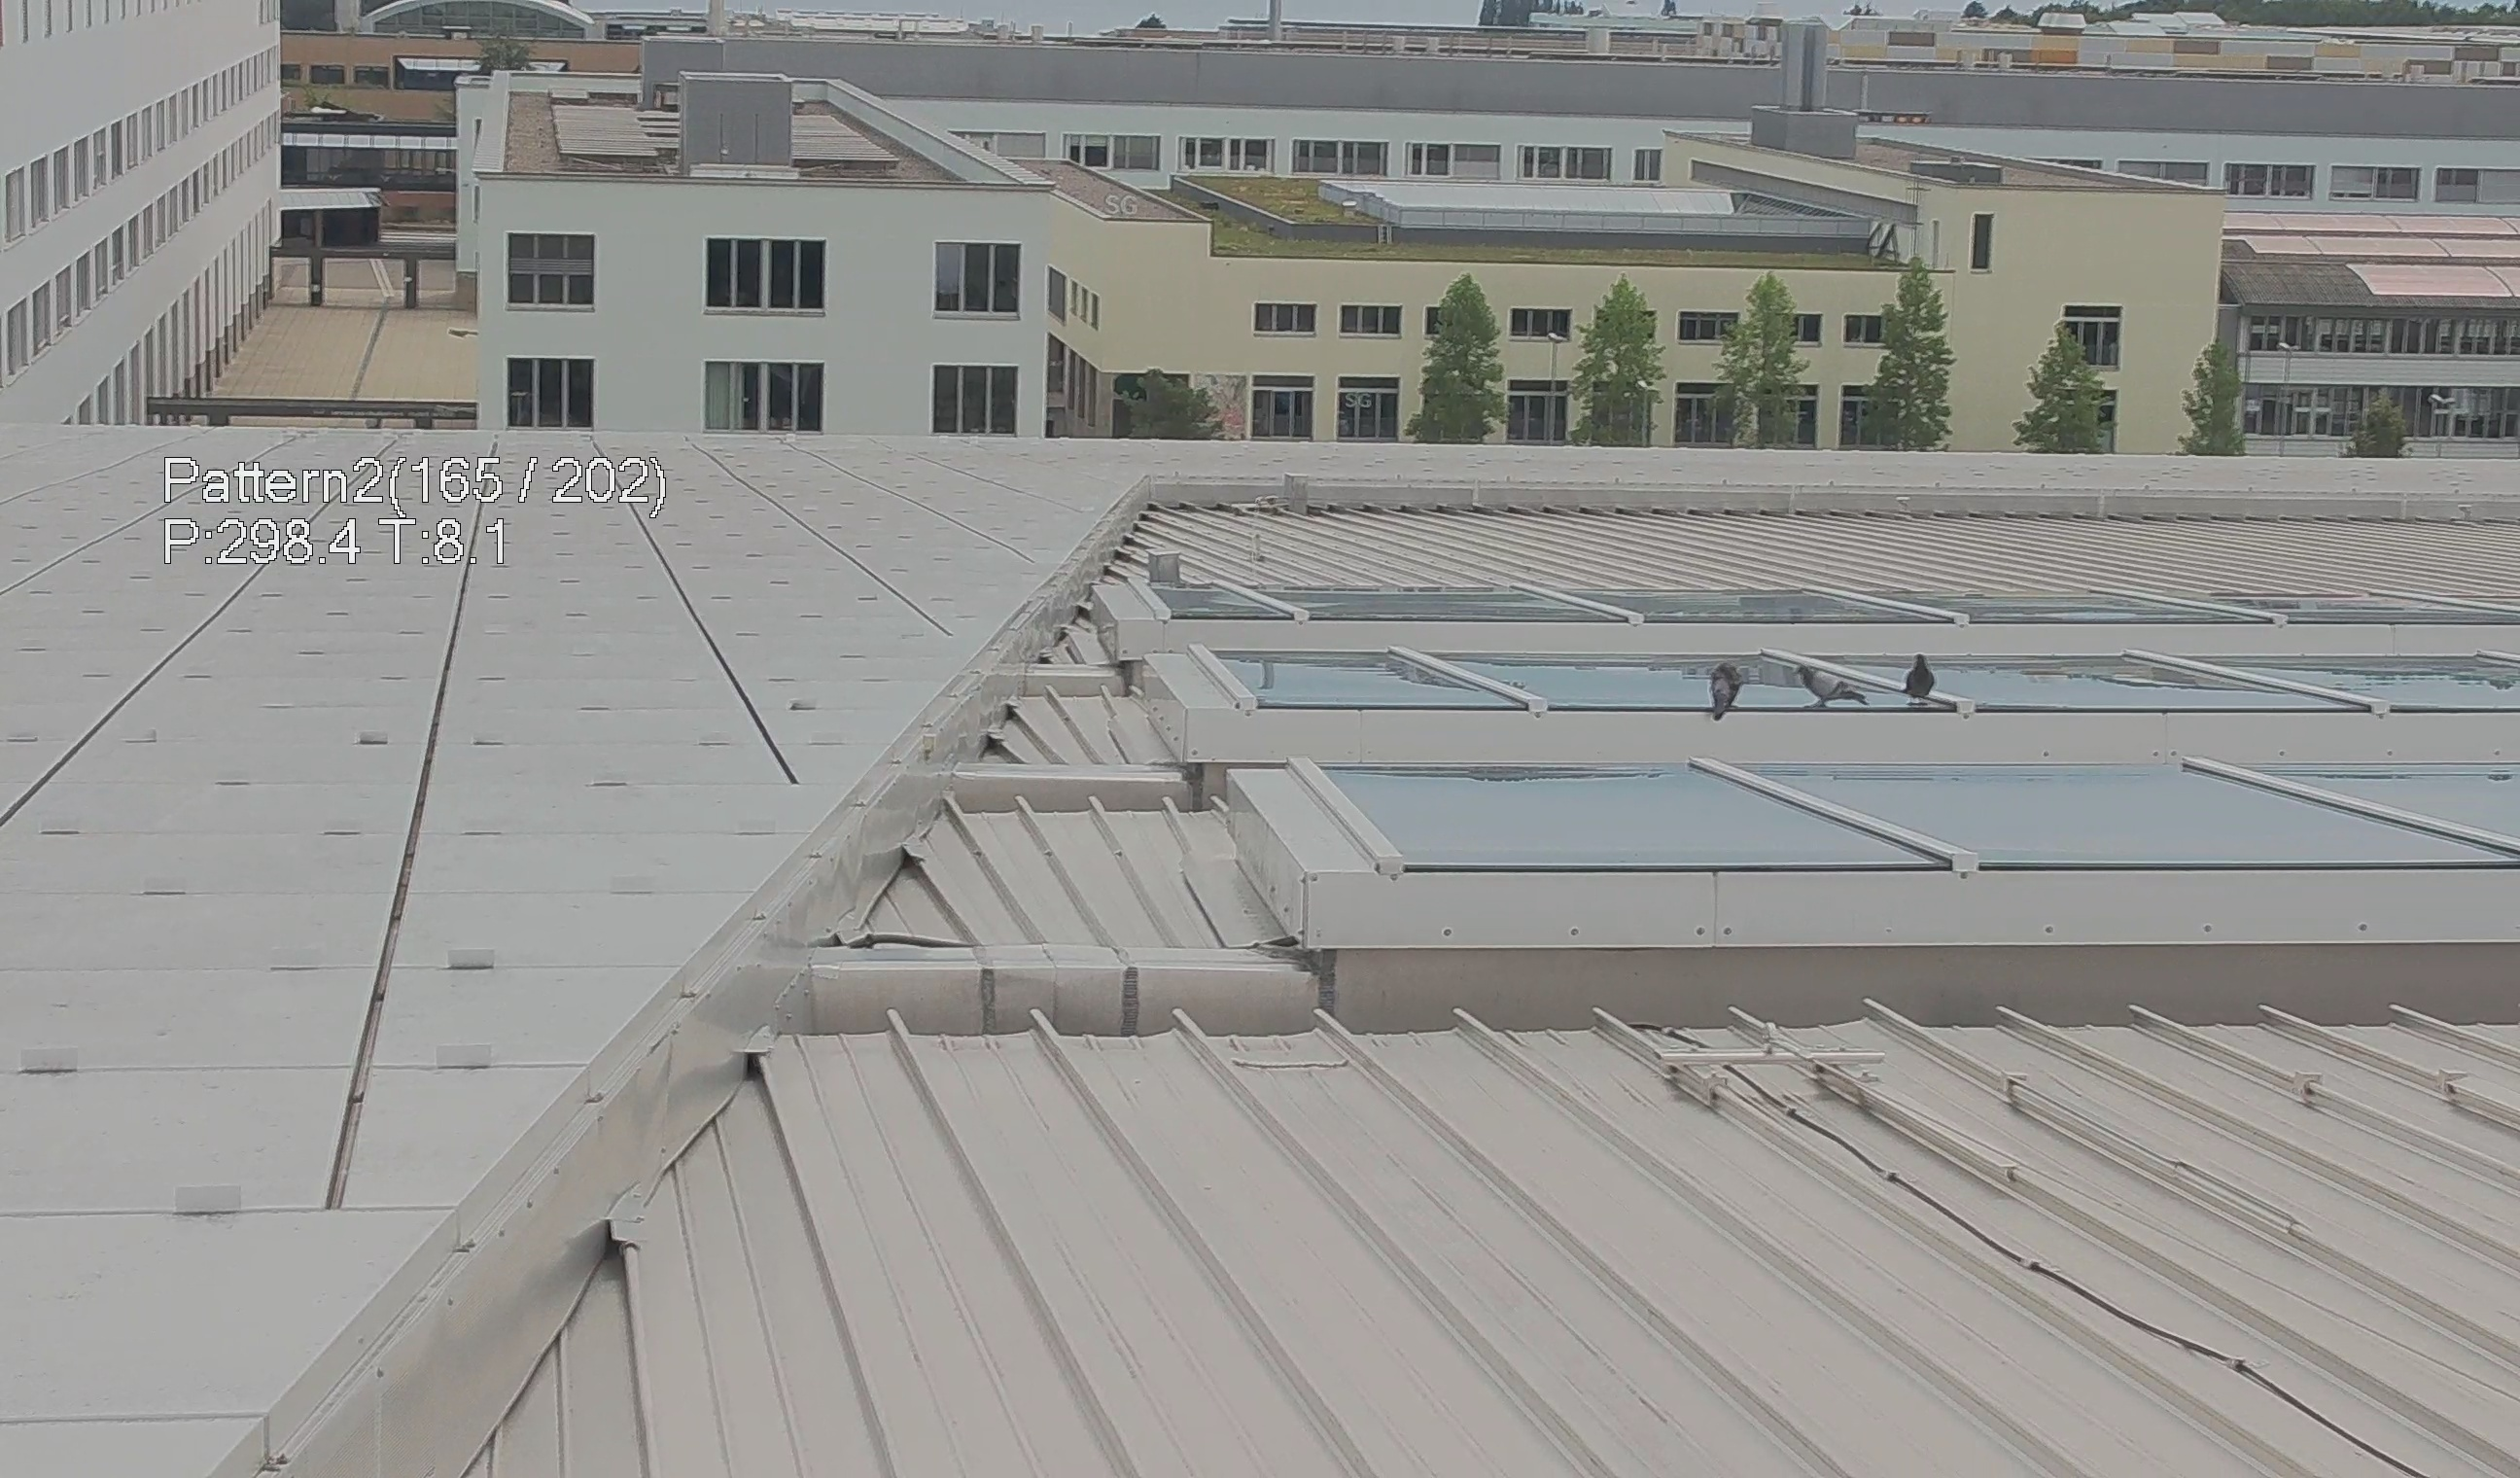Pigeon: (1783, 660, 1868, 711), (1890, 644, 1950, 711), (1702, 660, 1744, 723)
